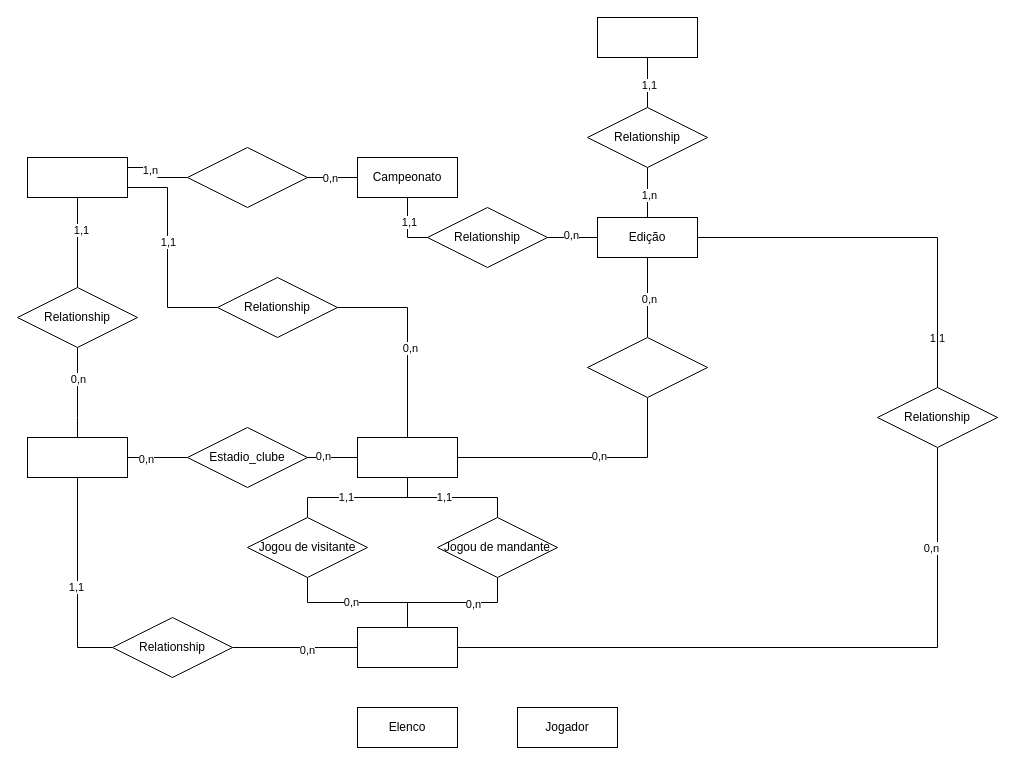
Some shapes in this 1015 by 765 pixel diagram are drawn without their labels. The shapes that lost their labels are listed below. From the top down, each one's centre as x and y in pixels, then its label:
point (647, 37): Temporada
point (77, 177): País
point (247, 177): País_campeonato
point (647, 367): Edicao_clube
point (77, 457): Estádio
point (407, 457): Clube
point (407, 647): Partida
